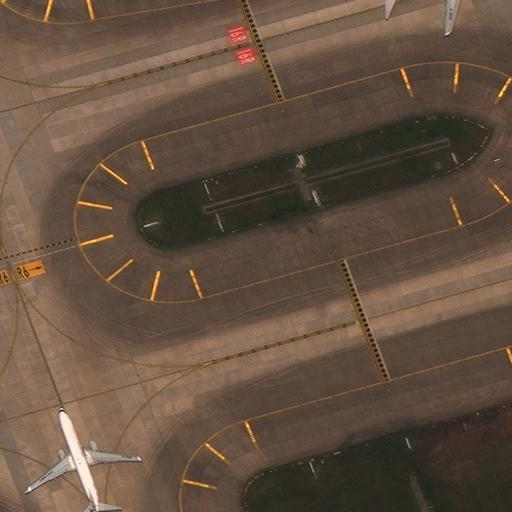Medium Civil Transport: (25, 406, 140, 511), (384, 0, 480, 33)
